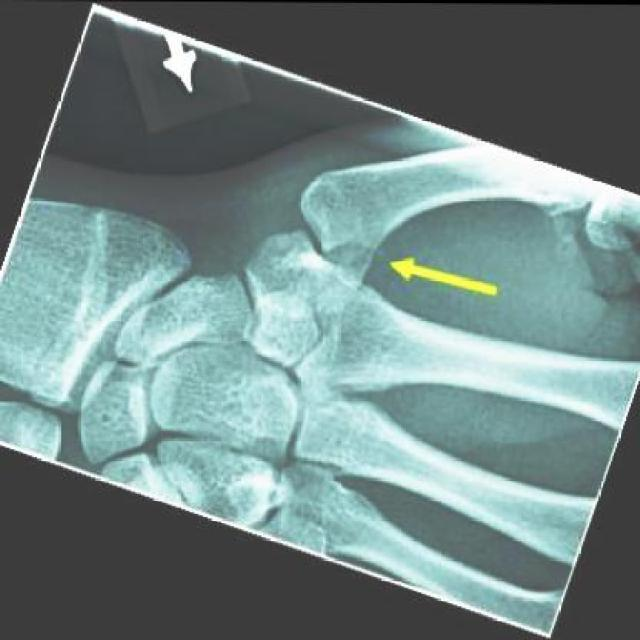Fracture: (305, 220, 402, 306)
